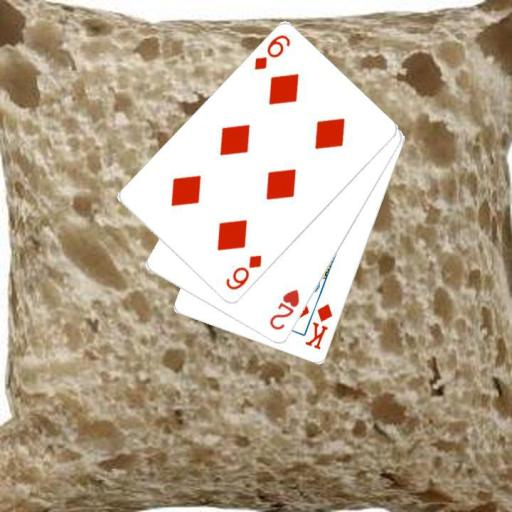2H: (266, 286, 301, 332)
6D: (251, 31, 293, 72), (223, 252, 263, 292)
KD: (302, 300, 334, 351)
